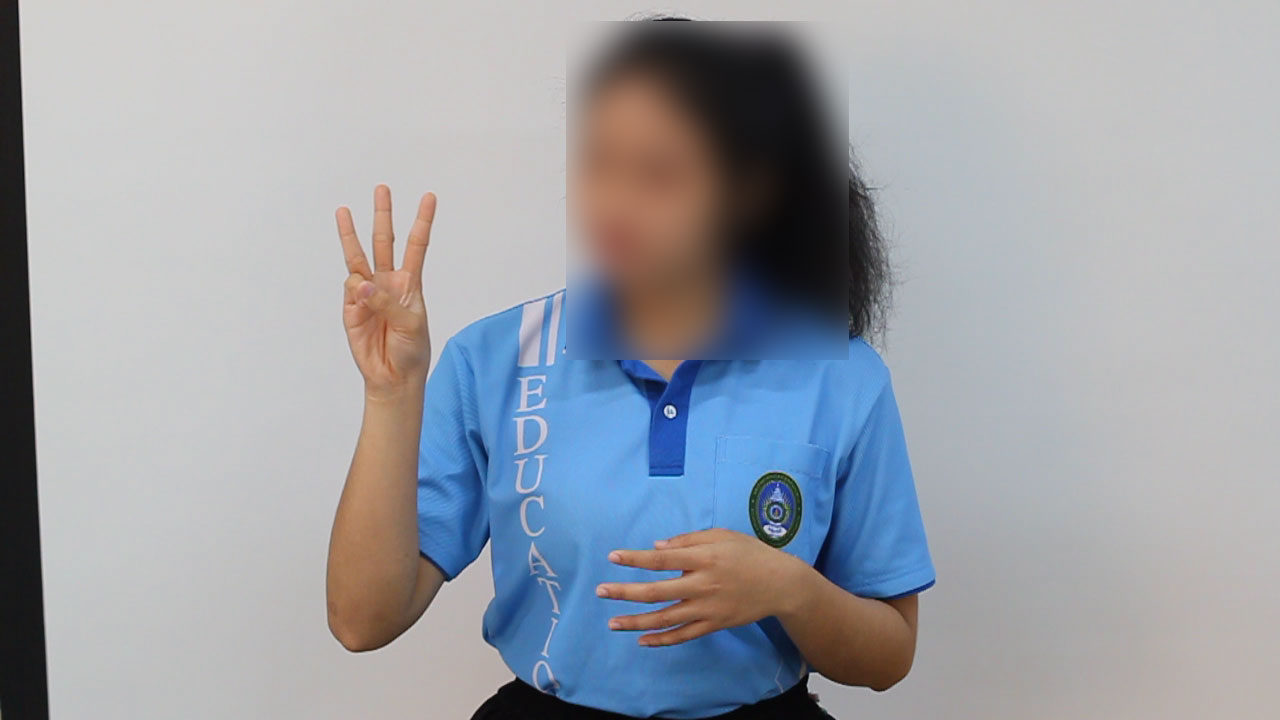wor: (324, 174, 447, 395)
